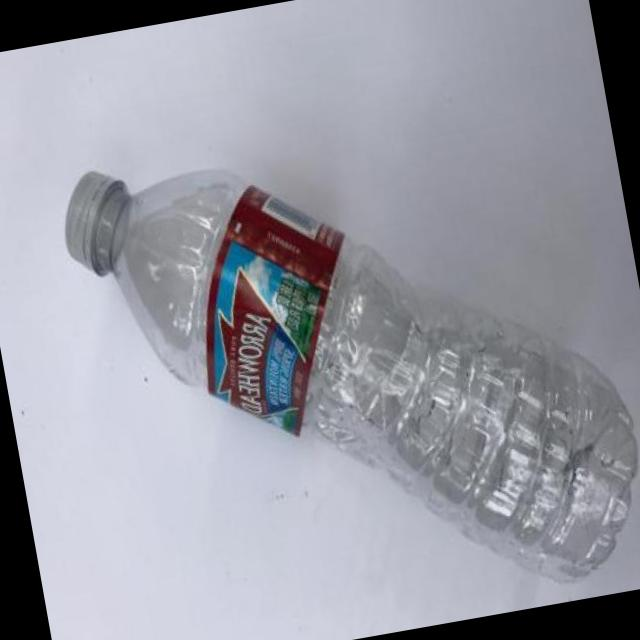plastic_bottle: (54, 84, 640, 640)
